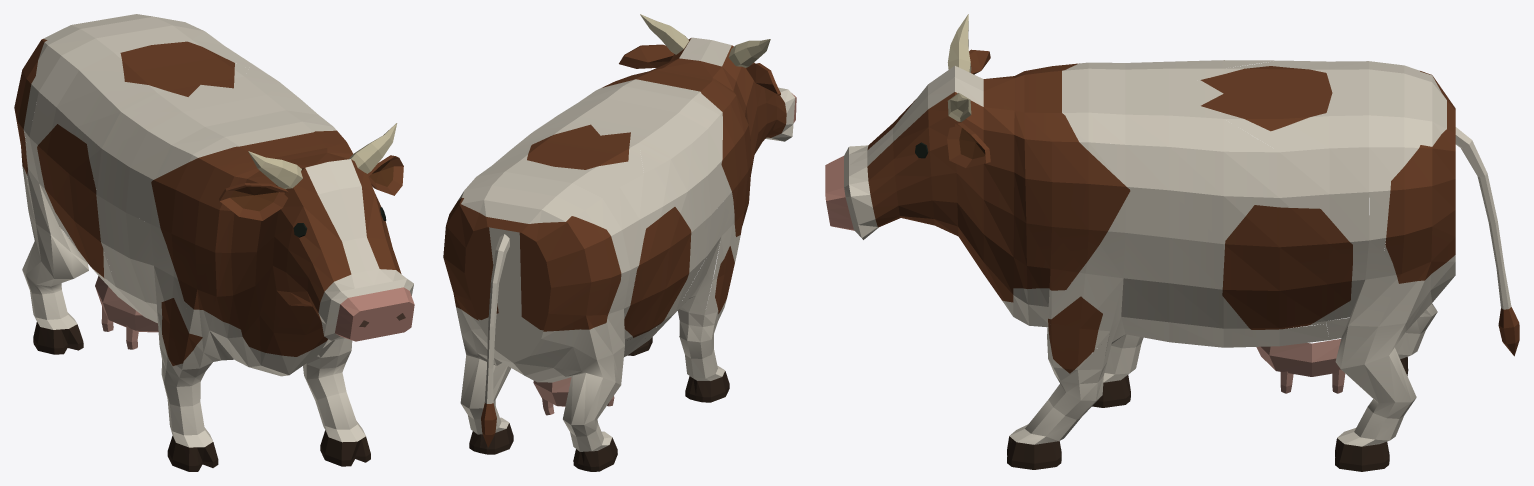
File: cow-base__walk4.glb
The picture shows the model from 3 angles, left to right: view 1: azimuth 30°, elevation 25°; view 2: azimuth 150°, elevation 25°; view 3: azimuth 270°, elevation 25°; orthographic projection. The views are drawn at different scales.
Parts seen in each view (by area): view 1: cow-base__walk4; view 2: cow-base__walk4; view 3: cow-base__walk4.
Boxes of the visible parts, bbox=[...] form: cow-base__walk4: bbox=[14, 14, 414, 471]; cow-base__walk4: bbox=[443, 14, 796, 471]; cow-base__walk4: bbox=[825, 14, 1519, 471].
Size of the model in its own units: 0.8398 by 1.43 by 2.37.
